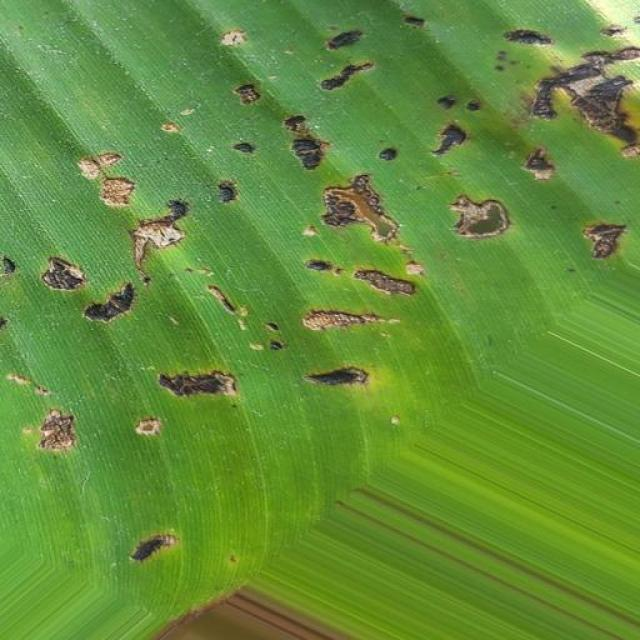Black_rot: (0, 14, 639, 595)
